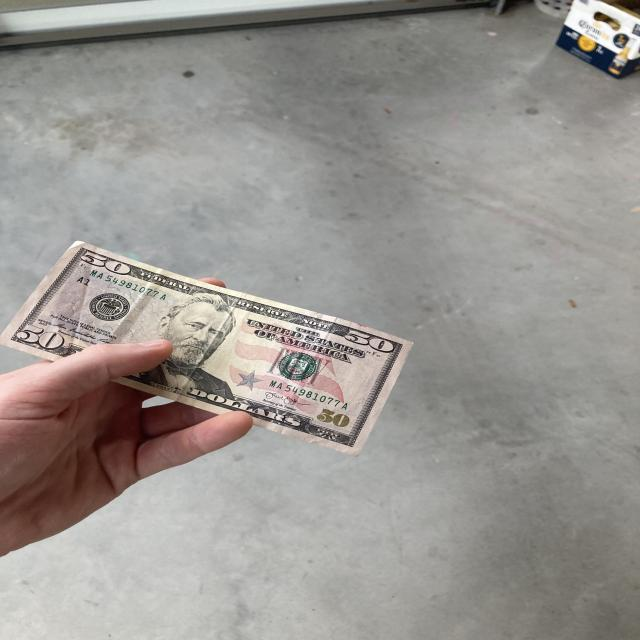fifty: (0, 227, 415, 465)
